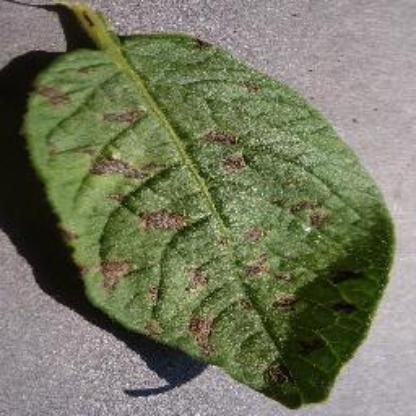Early-Blight: (22, 6, 396, 408)
